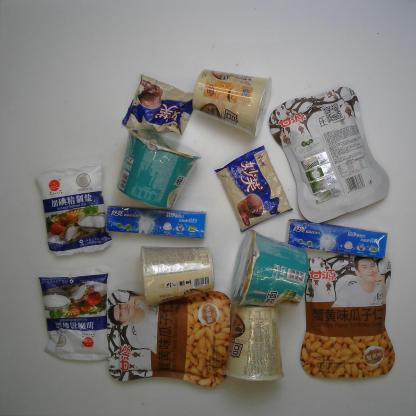Dessert: (213, 143, 294, 234), (122, 73, 194, 138)
Dried Fruit: (269, 85, 390, 224), (106, 288, 232, 388), (299, 252, 396, 378)
Instant Noodles: (116, 128, 202, 211), (229, 228, 310, 308), (192, 68, 274, 138), (223, 305, 286, 384), (139, 245, 216, 308)
Personal Hygiene: (284, 218, 388, 260), (105, 203, 207, 239)
Seasoner: (35, 160, 115, 258), (36, 264, 112, 362)
